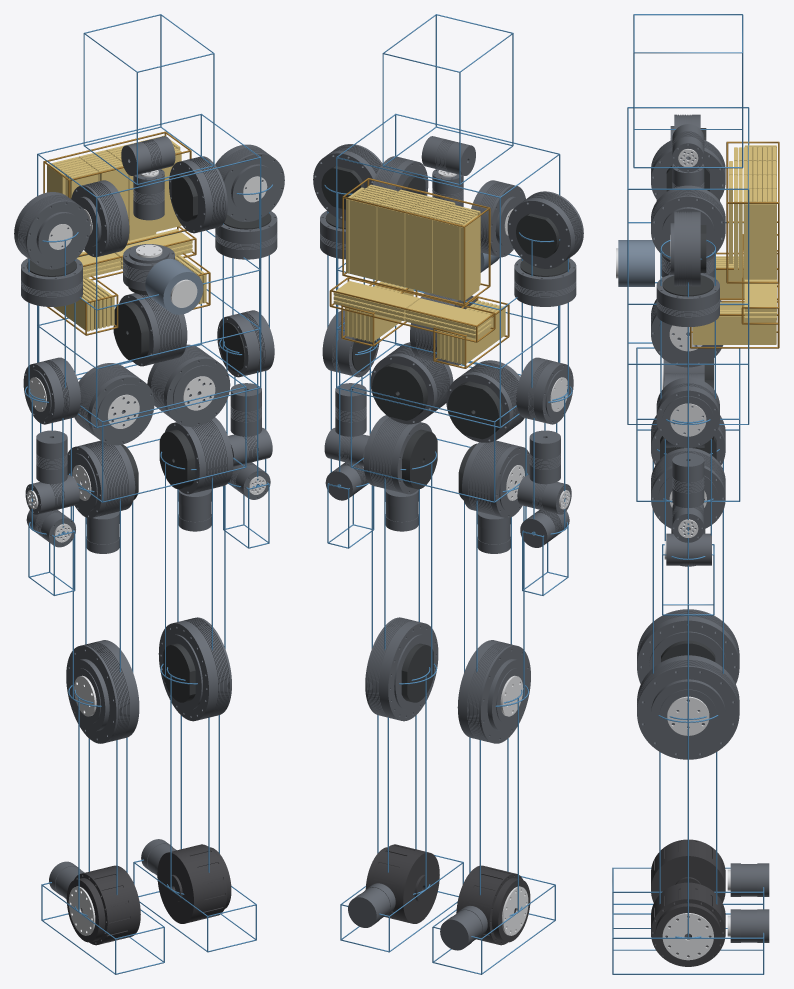
Rendered from gems-module-layout.glb.
3 renders of one model, left to right at view 1: azimuth 30°, elevation 25°; view 2: azimuth 150°, elevation 25°; view 3: azimuth 270°, elevation 25°, orthographic. The views are drawn at different scales.
Parts seen in each view (by area): view 1: r_knee body, l_knee body, l_ankle_pitch body, r_shoulder_roll body, r_hip_roll body, l_hip_roll body, r_ankle_pitch body, r_hip_pitch body, l_shoulder_roll body, r_shoulder_pitch body, l_hip_pitch body, l_shoulder_pitch body (+49 smaller); view 2: r_knee body, l_knee body, r_hip_pitch body, l_ankle_pitch body, r_shoulder_roll body, r_ankle_pitch body, l_hip_pitch body, r_elbow body, l_hip_roll cap, r_hip_roll cap, r_shoulder_pitch body, r_hip_roll body (+51 smaller); view 3: l_knee body, r_knee body, l_ankle_pitch body, l_shoulder_pitch body, r_ankle_pitch body, l_elbow body, l_hip_pitch body, cell 00 upper, l_shoulder_roll body, l_shoulder_yaw body, cell 58 lower, l_ankle_pitch output (+36 smaller).
Part boxes in pixels (x1,y1,x2,y2): r_knee body: [66, 640, 139, 743]; l_knee body: [158, 617, 231, 721]; l_ankle_pitch body: [157, 844, 231, 923]; r_shoulder_roll body: [14, 192, 90, 269]; r_hip_roll body: [74, 363, 154, 445]; l_hip_roll body: [147, 344, 230, 426]; r_ankle_pitch body: [66, 865, 140, 945]; r_hip_pitch body: [67, 440, 135, 518]; l_shoulder_roll body: [215, 144, 284, 221]; r_shoulder_pitch body: [71, 180, 129, 257]; l_hip_pitch body: [165, 417, 233, 494]; l_shoulder_pitch body: [169, 156, 227, 233]; r_knee body: [457, 640, 530, 743]; l_knee body: [365, 617, 438, 721]; r_hip_pitch body: [462, 440, 529, 518]; l_ankle_pitch body: [365, 844, 439, 923]; r_shoulder_roll body: [507, 191, 583, 268]; r_ankle_pitch body: [456, 865, 530, 945]; l_hip_pitch body: [363, 415, 432, 494]; r_elbow body: [516, 357, 573, 424]; l_hip_roll cap: [372, 363, 427, 420]; r_hip_roll cap: [448, 381, 503, 439]; r_shoulder_pitch body: [471, 180, 525, 257]; r_hip_roll body: [446, 360, 524, 442]; l_knee body: [637, 655, 739, 759]; r_knee body: [637, 609, 739, 683]; l_ankle_pitch body: [651, 882, 725, 966]; l_shoulder_pitch body: [651, 185, 725, 259]; r_ankle_pitch body: [651, 839, 725, 902]; l_elbow body: [656, 377, 719, 447]; l_hip_pitch body: [651, 448, 725, 528]; cell 00 upper: [744, 204, 776, 279]; l_shoulder_roll body: [670, 211, 700, 286]; l_shoulder_yaw body: [656, 273, 719, 326]; cell 58 lower: [692, 316, 776, 344]; l_ankle_pitch output: [662, 913, 713, 960].
Size of the model in its own units: 0.504 by 1.66 by 0.2777.
